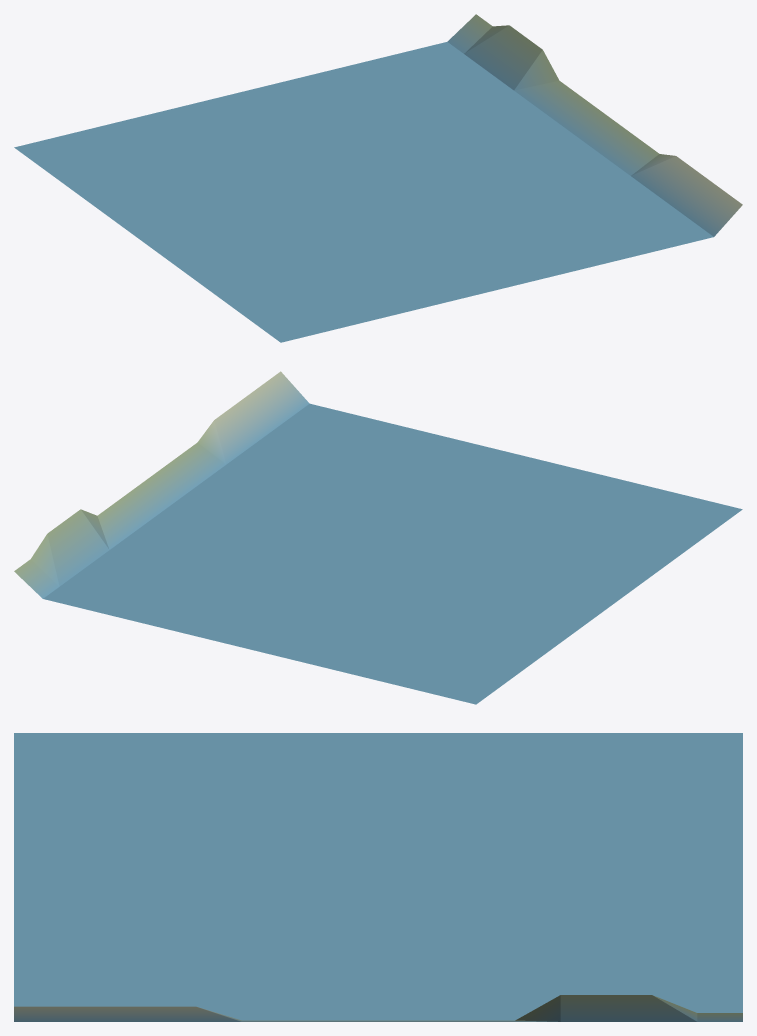
The picture shows the model from 3 angles, top to bottom: view 1: azimuth 30°, elevation 25°; view 2: azimuth 150°, elevation 25°; view 3: azimuth 270°, elevation 25°; orthographic projection. The views are drawn at different scales.
Size of the model in its own units: 32 by 2.24 by 32.
